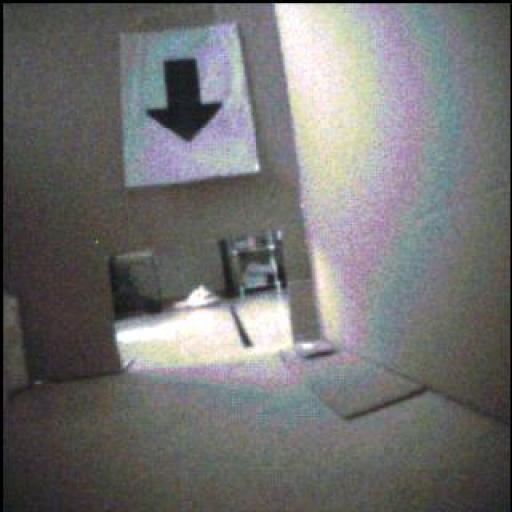arrow: (149, 60, 224, 142)
